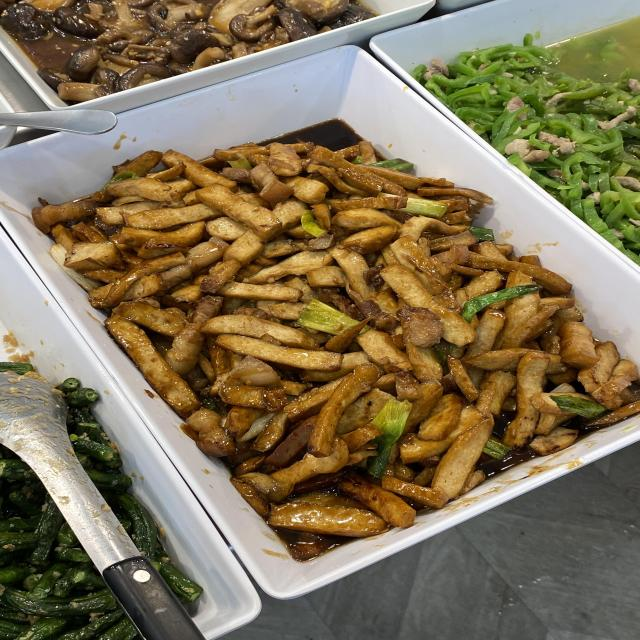Fried dried beans: (175, 202, 480, 415)
